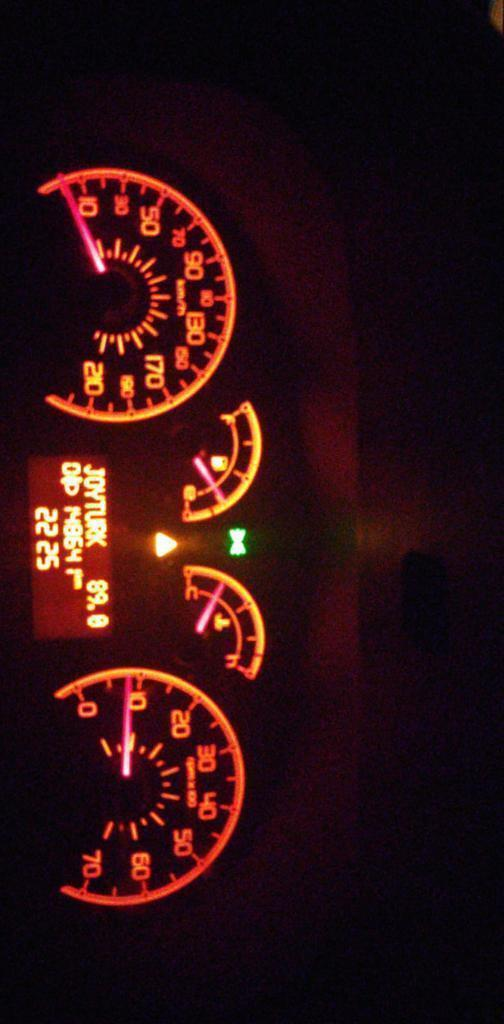,: (86, 602, 96, 611)
0: (86, 613, 110, 628), (61, 461, 81, 475)
1: (64, 568, 82, 574), (63, 505, 80, 511)
2: (35, 539, 59, 555), (34, 521, 58, 537), (34, 506, 58, 522)
4: (64, 549, 82, 562), (63, 512, 81, 524)
5: (35, 555, 59, 571)
6: (63, 536, 83, 549)
8: (85, 578, 108, 593), (85, 592, 109, 604), (62, 524, 83, 536)
X: (59, 476, 82, 497), (84, 534, 108, 548), (84, 522, 107, 535), (82, 463, 105, 476), (83, 510, 107, 522), (82, 488, 106, 500), (83, 476, 105, 488), (83, 500, 106, 510)
odometer: (23, 449, 117, 642)
